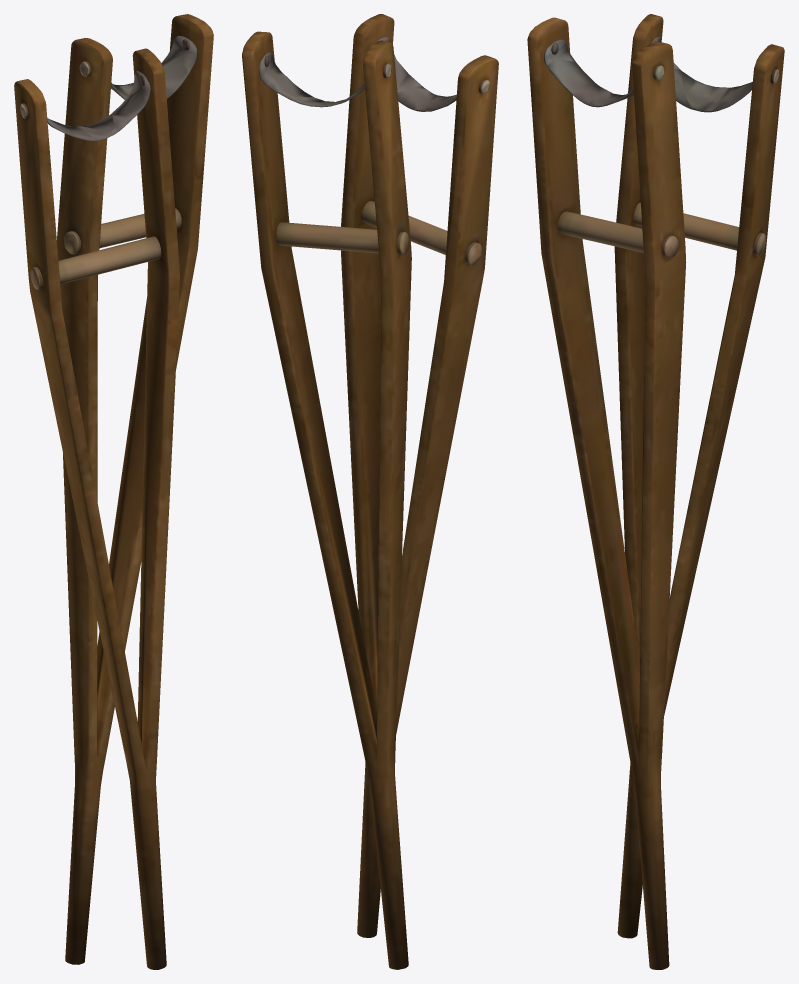
Rendered from cc0_crutches.glb.
The picture shows the model from 3 angles, left to right: view 1: azimuth 30°, elevation 25°; view 2: azimuth 150°, elevation 25°; view 3: azimuth 330°, elevation 25°; orthographic projection.
Visible parts, largest first — view 1: vintage_crutches_01_crutch01, vintage_crutches_01_crutch02; view 2: vintage_crutches_01_crutch02, vintage_crutches_01_crutch01; view 3: vintage_crutches_01_crutch01, vintage_crutches_01_crutch02.
Boxes of the visible parts, box(x1,y1,x2,y2) form: vintage_crutches_01_crutch01: box(14, 48, 179, 969); vintage_crutches_01_crutch02: box(57, 14, 213, 964); vintage_crutches_01_crutch02: box(242, 31, 411, 969); vintage_crutches_01_crutch01: box(341, 14, 498, 937); vintage_crutches_01_crutch01: box(527, 17, 686, 969); vintage_crutches_01_crutch02: box(614, 14, 784, 938).
Size of the model in its own units: 0.3835 by 1.6 by 0.2034.
Materials: 1 (1 with a texture image).
